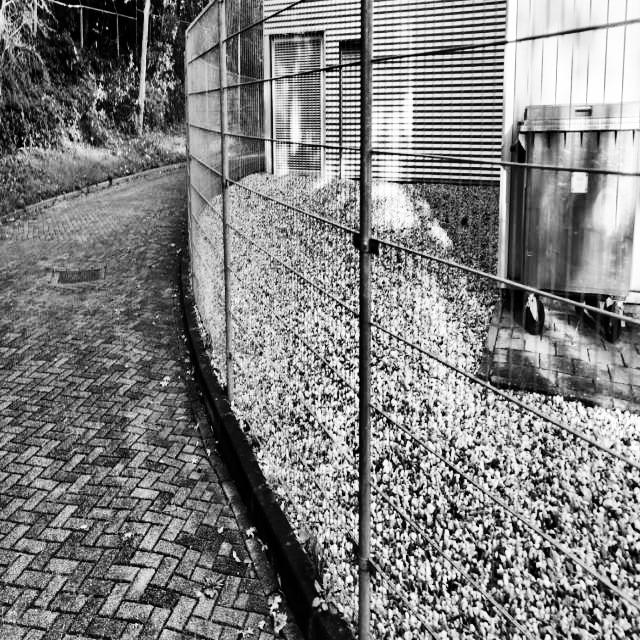fences: (376, 11, 640, 637), (180, 0, 365, 540)
